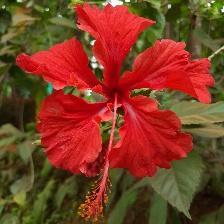hibiscus: (18, 1, 218, 224)
